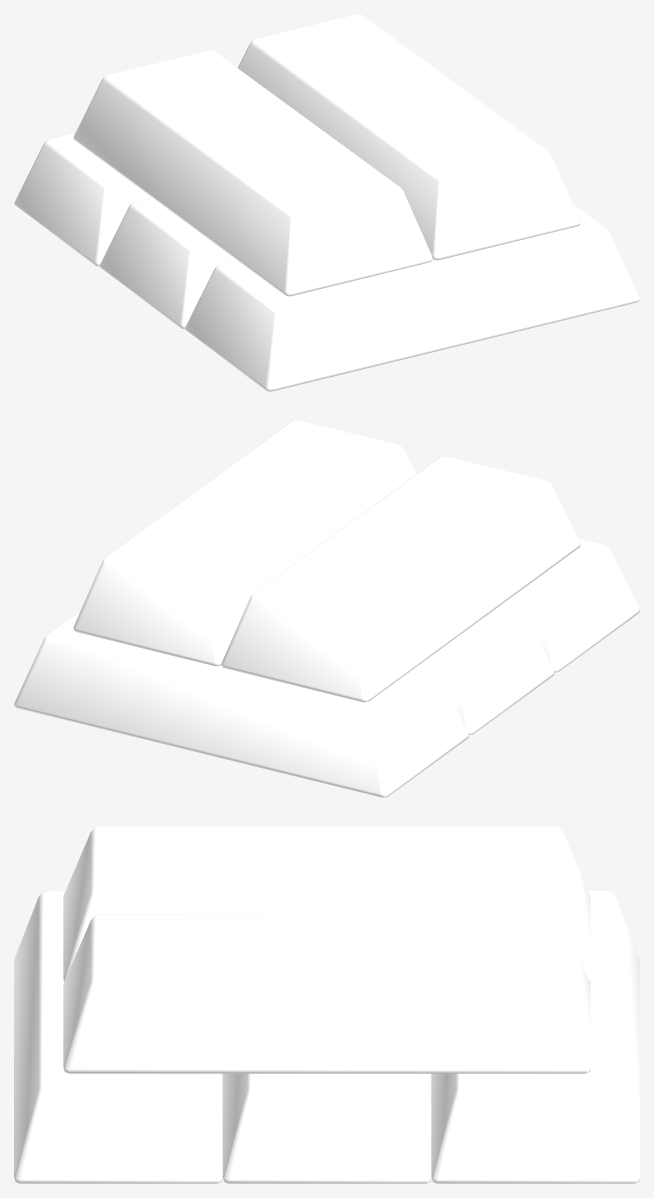
3 views of the same model, one above another, from view 1: azimuth 30°, elevation 25°; view 2: azimuth 150°, elevation 25°; view 3: azimuth 270°, elevation 25° (orthographic). The views are drawn at different scales.
Parts seen in each view (by area): view 1: StackOfSilverBars; view 2: StackOfSilverBars; view 3: StackOfSilverBars.
Boxes of the visible parts, x1,y1,x2,y2 form: StackOfSilverBars: (14,14,639,391); StackOfSilverBars: (14,420,639,797); StackOfSilverBars: (14,826,639,1183).
Bounding box in the file's own units: 0.3718 × 0.135 × 0.4414.
1 material, 1 textured.
